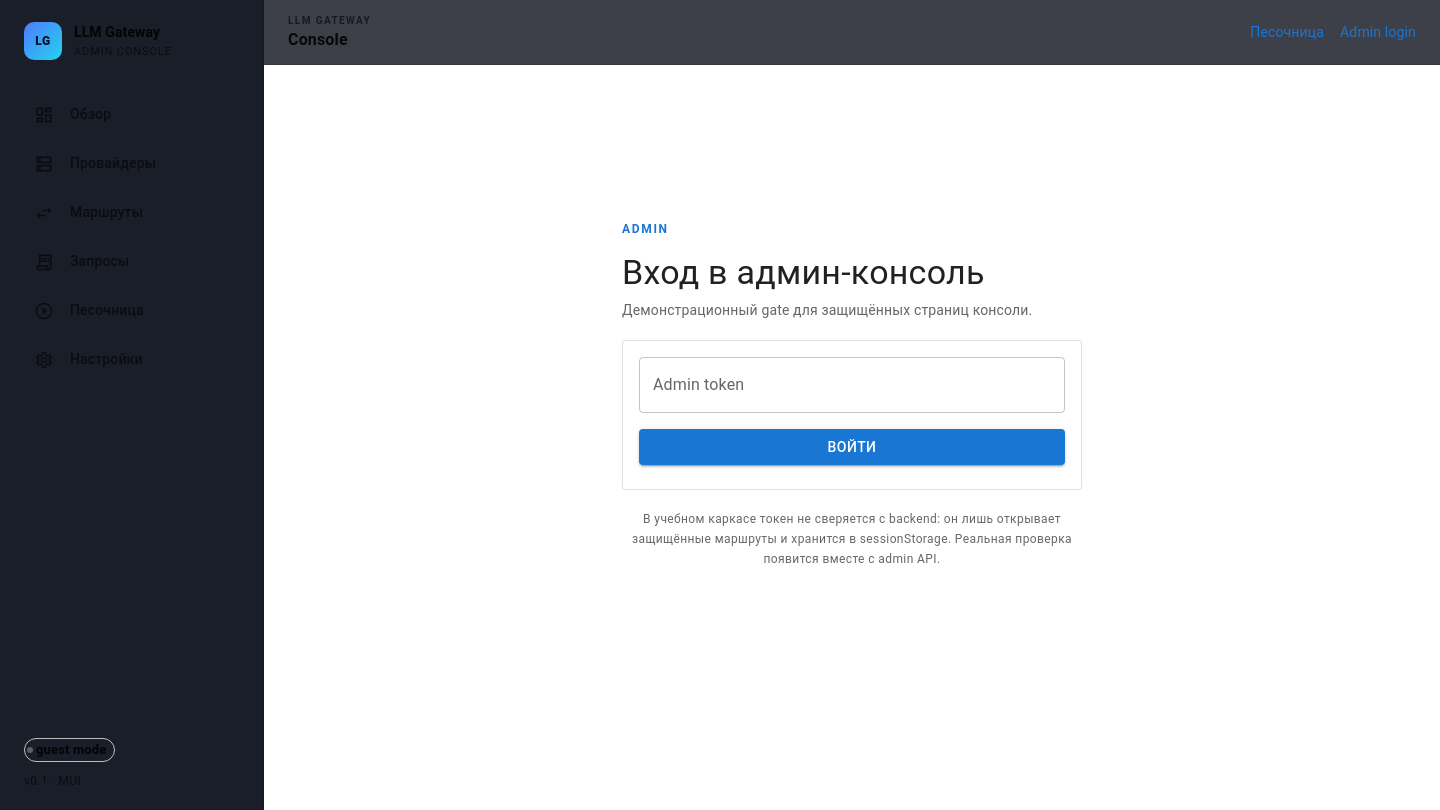
App routing › redirects an unauthenticated user from settings to login and signs in
Check: the heading "Вход в админ-консоль" is shown, box [622, 252, 1032, 294]
Type "secret-token" into the password field labelled "Admin token" at (852,385), box [639, 357, 1065, 413]
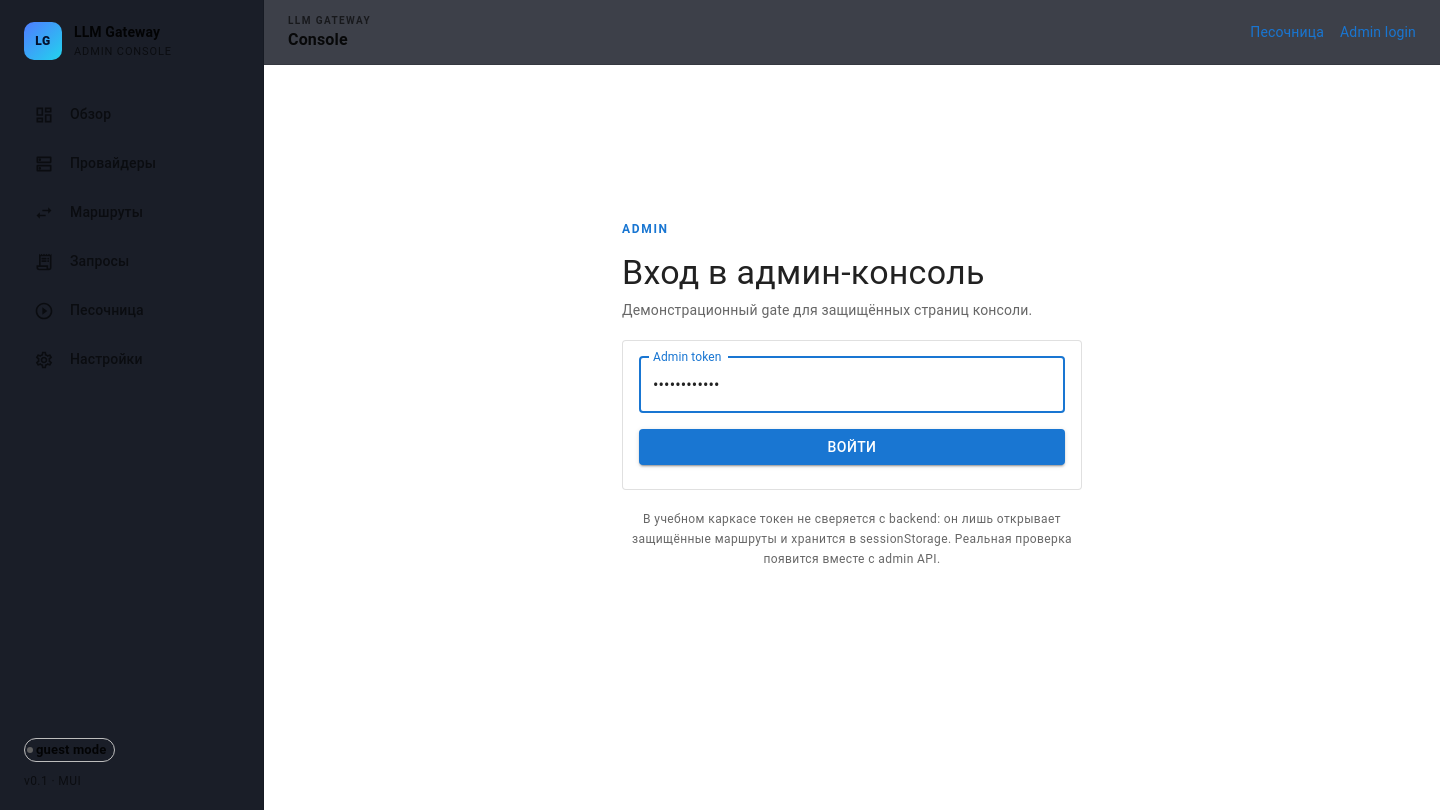
Click the button "Войти" at (852,447), box [639, 429, 1065, 465]
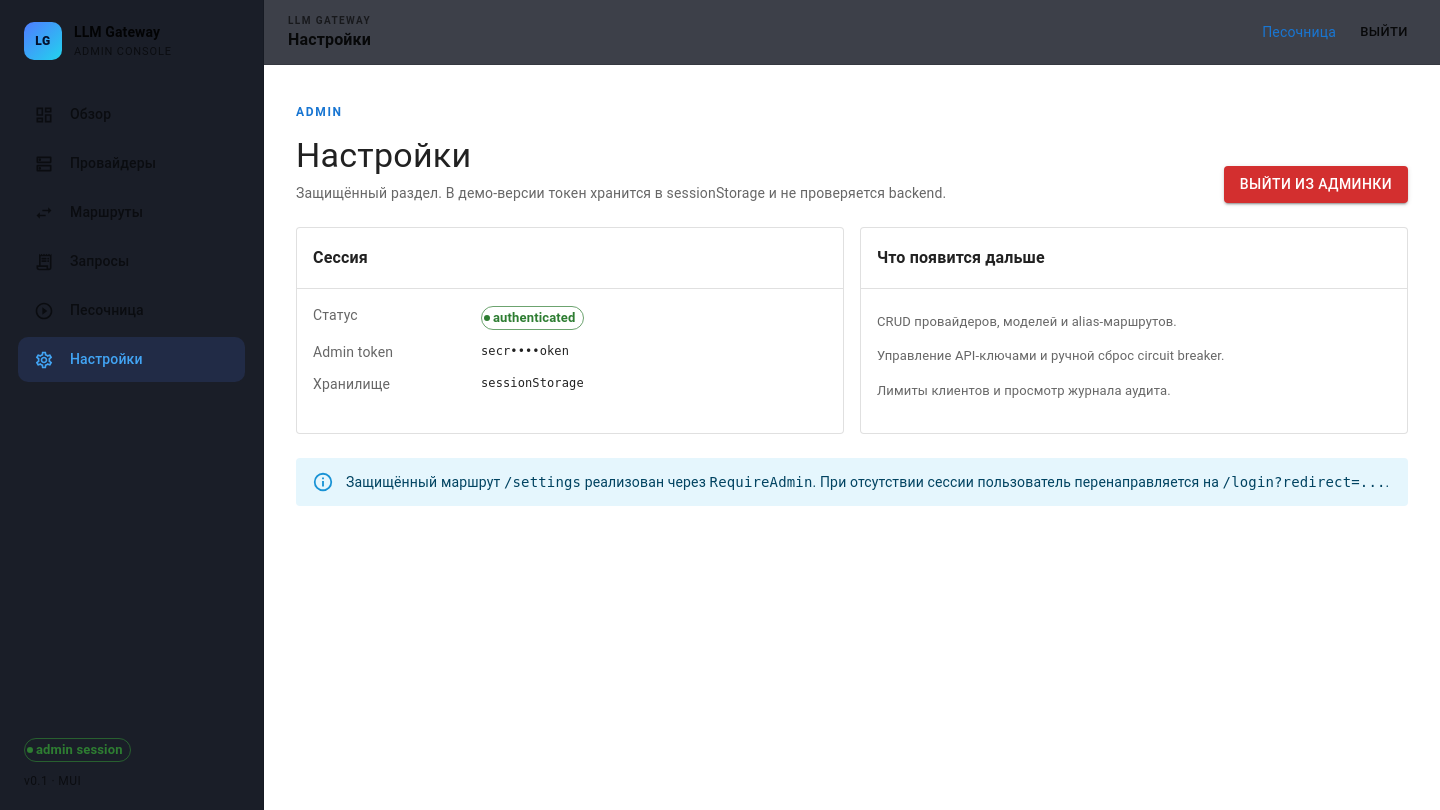
Check: the heading "Настройки" is shown, box [296, 135, 471, 175]
